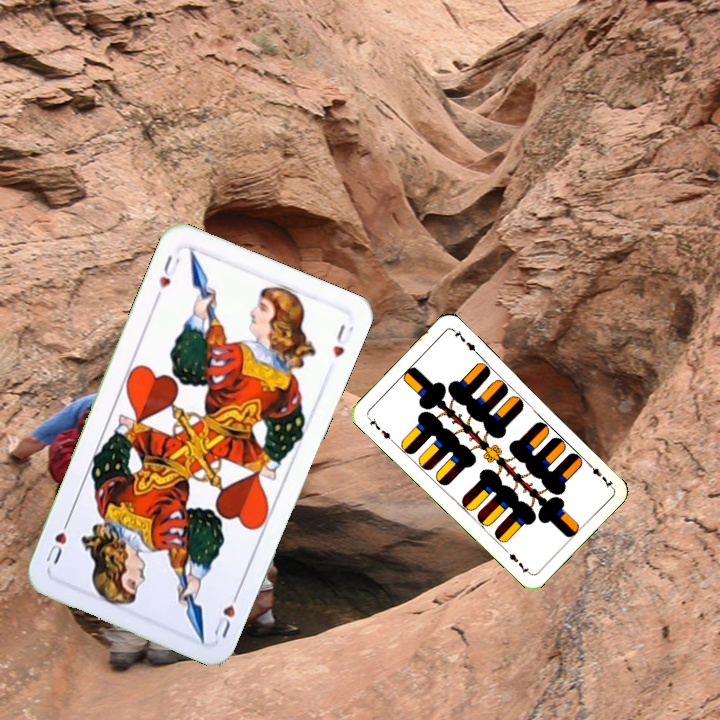E7: (364, 413, 396, 445), (583, 458, 615, 490)
HU: (208, 586, 243, 642), (151, 251, 183, 302)
